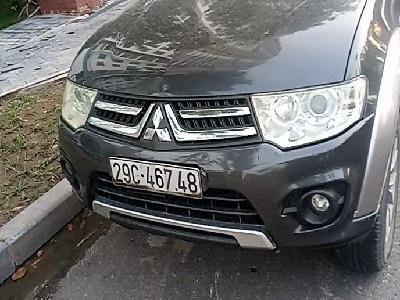car: (107, 156, 205, 202)
